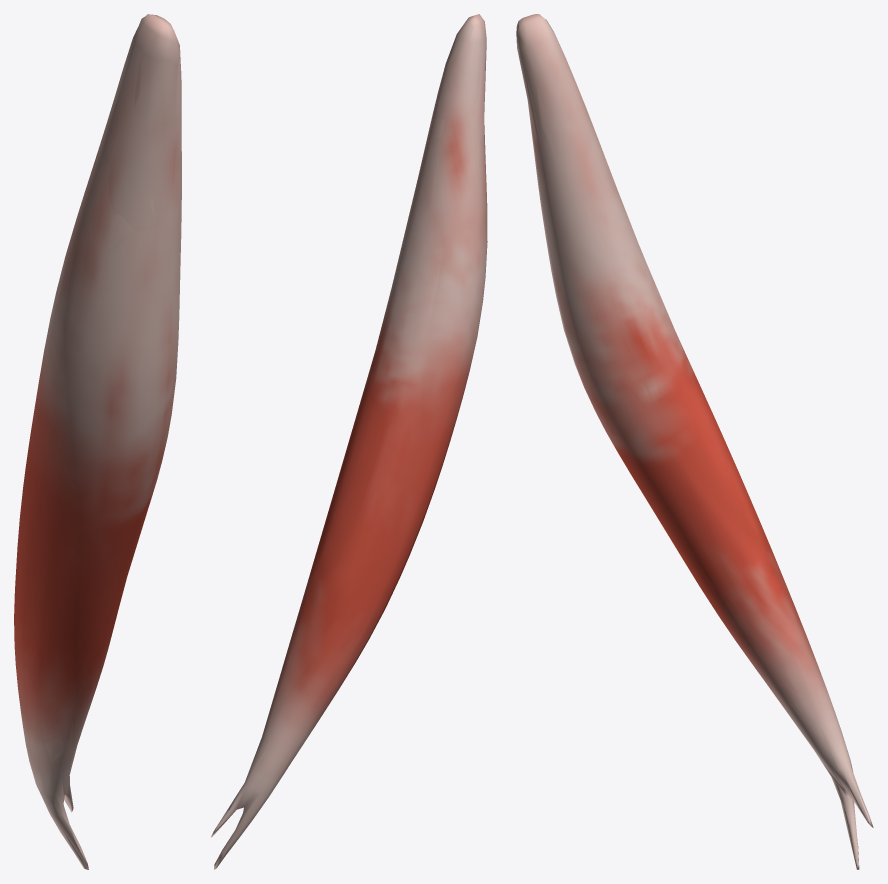
File: R peroneus longus.fbx
The picture shows the model from 3 angles, left to right: view 1: azimuth 30°, elevation 25°; view 2: azimuth 150°, elevation 25°; view 3: azimuth 270°, elevation 25°; orthographic projection. The views are drawn at different scales.
Parts seen in each view (by area): view 1: R peroneus longus, R peroneus longus low; view 2: R peroneus longus, R peroneus longus low; view 3: R peroneus longus, R peroneus longus low.
Part boxes in pixels (x1,y1,x2,y2): R peroneus longus: (14,14,181,869); R peroneus longus low: (25,15,181,867); R peroneus longus: (211,14,487,869); R peroneus longus low: (213,21,487,865); R peroneus longus: (516,14,873,868); R peroneus longus low: (517,14,869,869).
Size of the model in its own units: 4.05 by 20.76 by 8.39.
